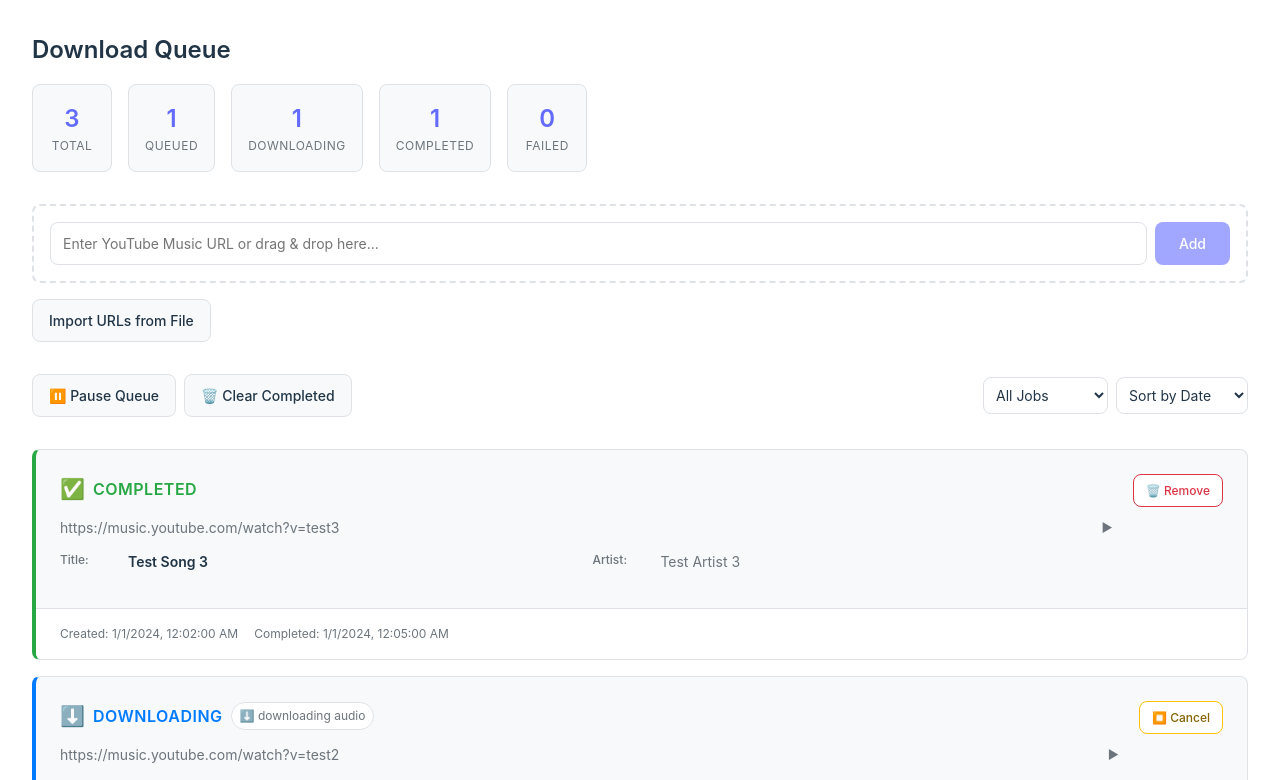
Test: QueueView Component › validates YouTube Music URLs
The width and height of the screenshot is (1280, 780).
Test invalid URL
In the field with placeholder "Enter YouTube Music URL or drag & drop here...": (598, 244) [50,222,1147,265], type "https://example.com/invalid"
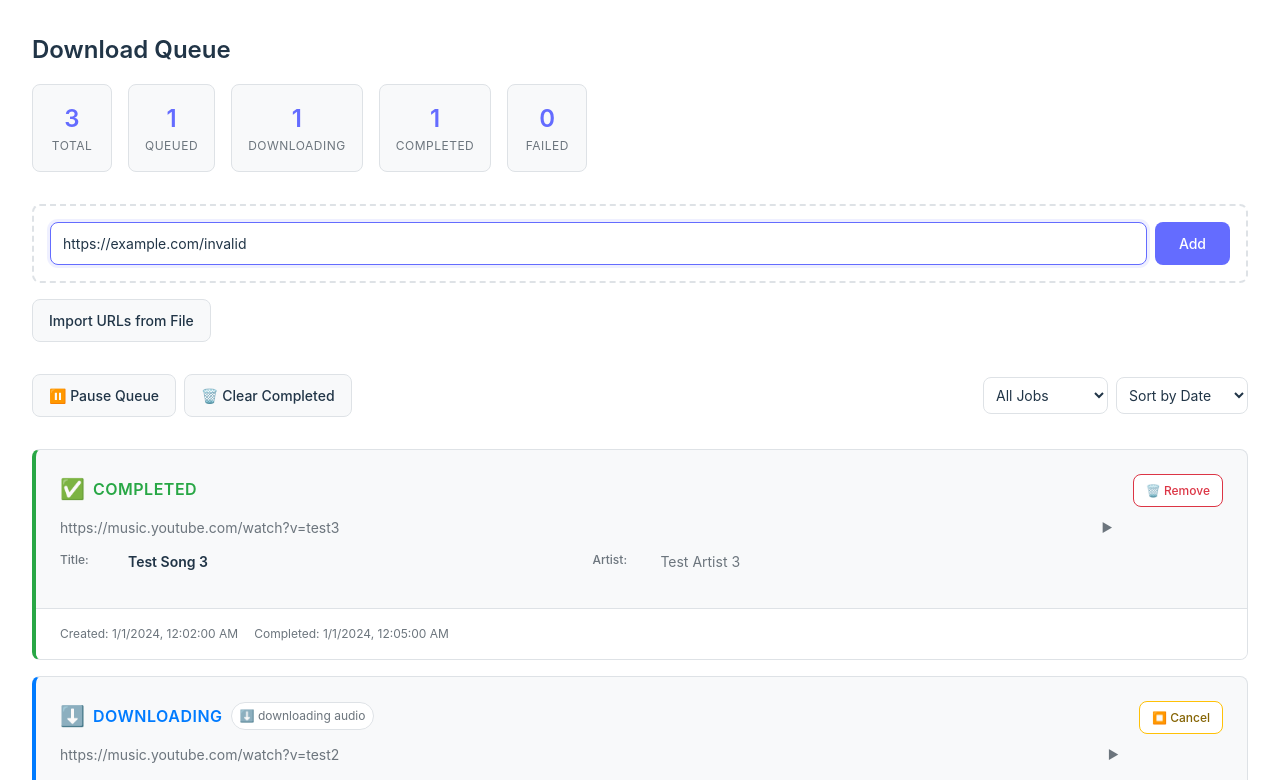
Click the button "Add": (1192, 244) [1155,222,1230,265]
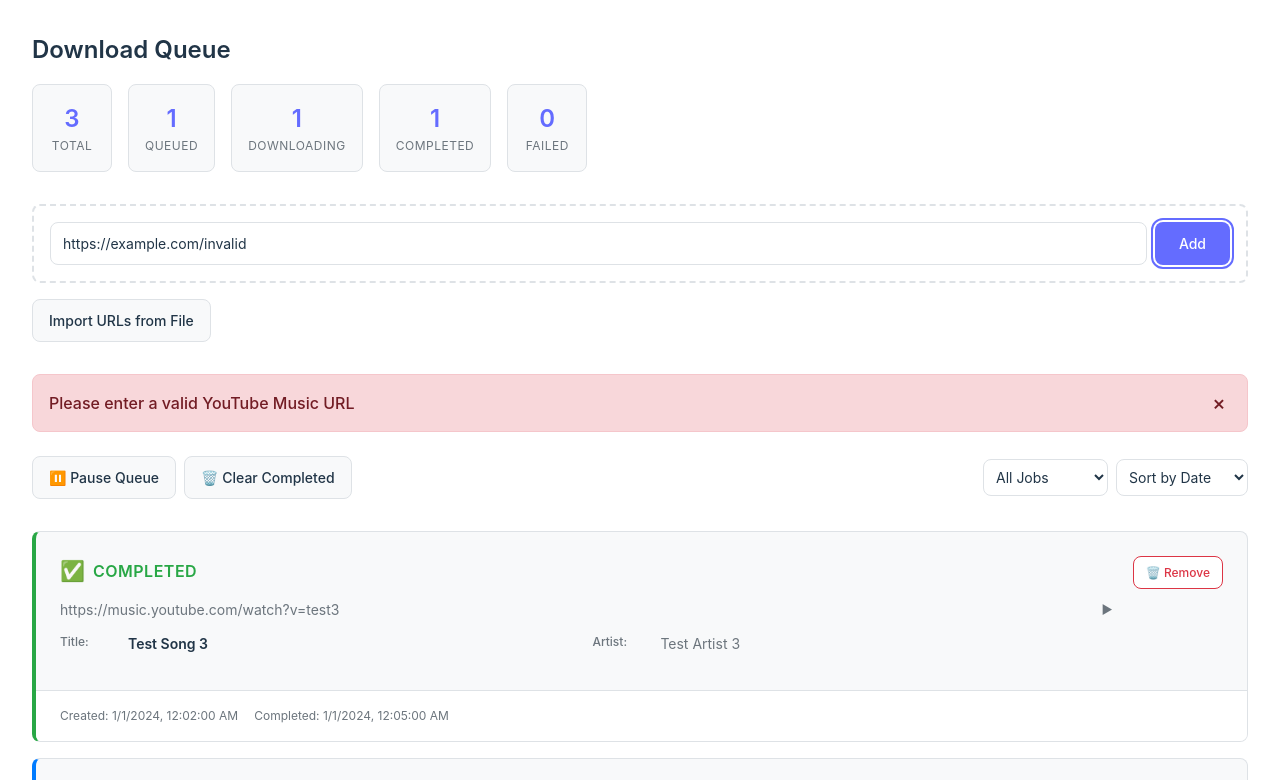
Expected: the text "Please enter a valid YouTube Music URL ×" is shown, [32,374,1248,432]
